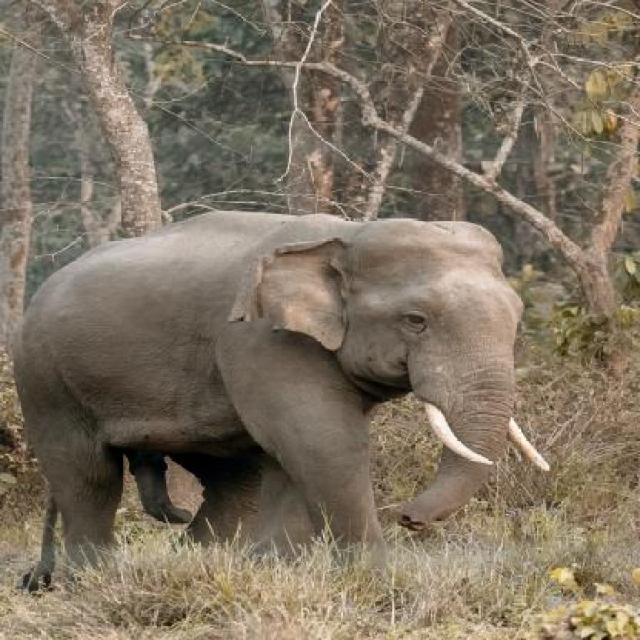Elephant: (14, 205, 560, 589)
